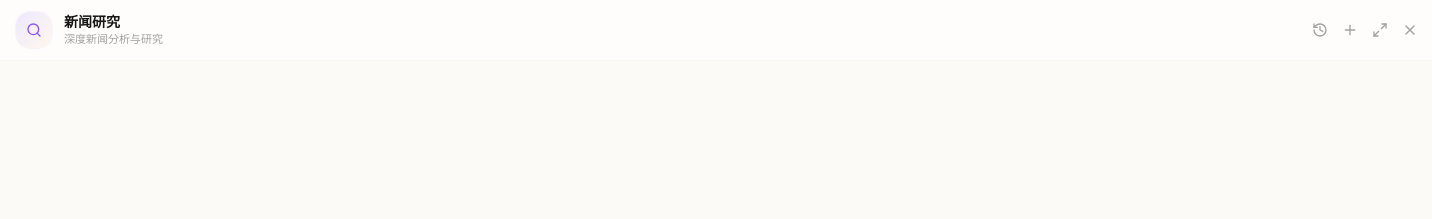
Test: ResearchHeader history menu keyboard behavior › focuses the current item and supports arrow, Home, End and Escape
This screenshot has width=1432, height=219.
Click the button named "历史会话": (1320, 30) 1306,16 -> 1334,44
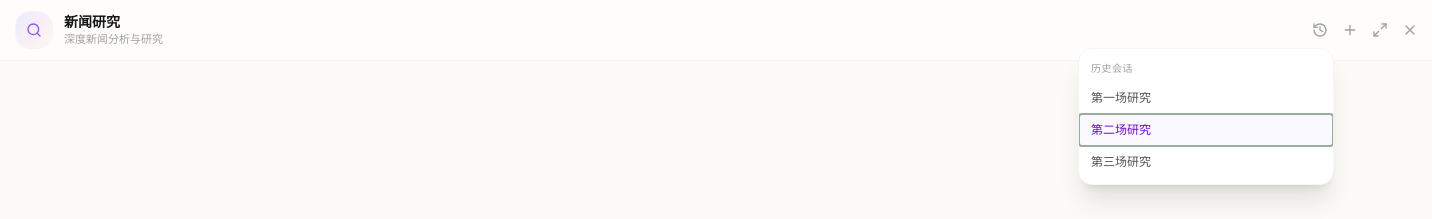
Press ArrowDown in the menu item "第二场研究", box 1079,114 -> 1333,146
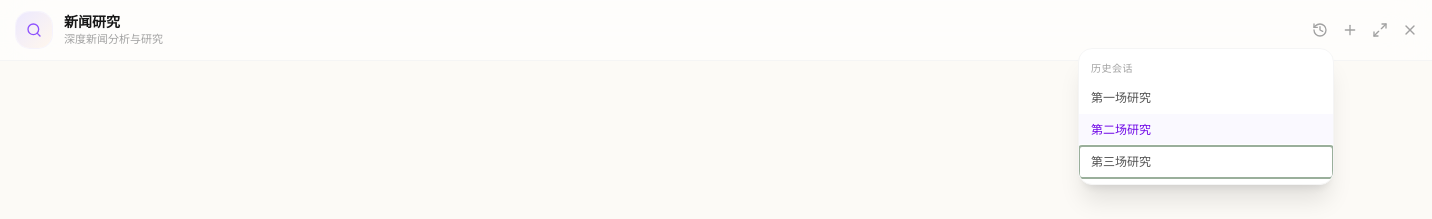
Press ArrowDown in the menu item "第三场研究", box 1079,146 -> 1333,178
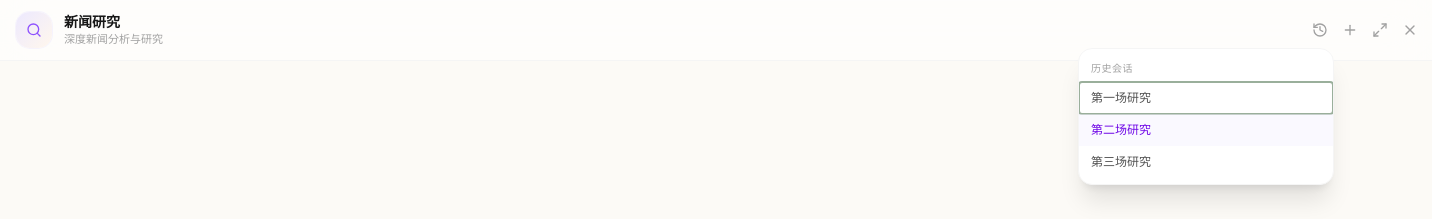
Press End in the menu item "第一场研究", box 1079,82 -> 1333,114
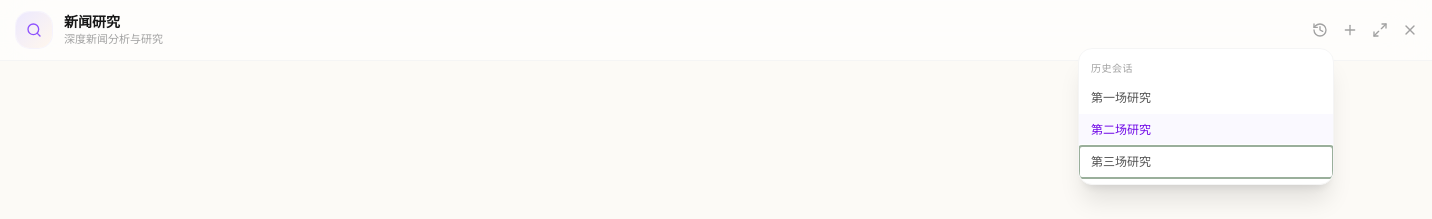
Press Home in the menu item "第三场研究", box 1079,146 -> 1333,178
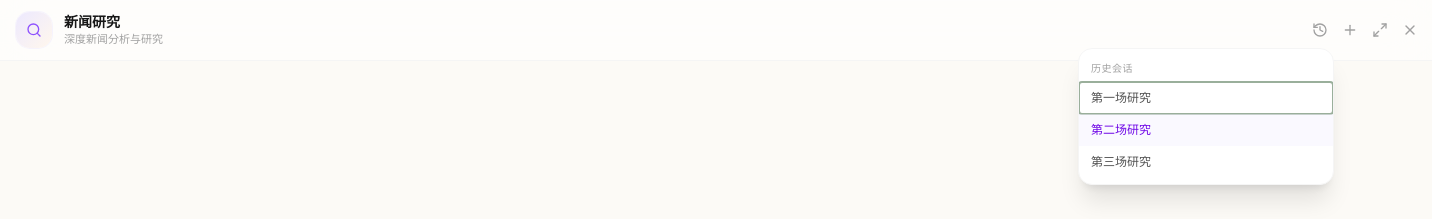
Press Escape in the menu item "第一场研究", box 1079,82 -> 1333,114
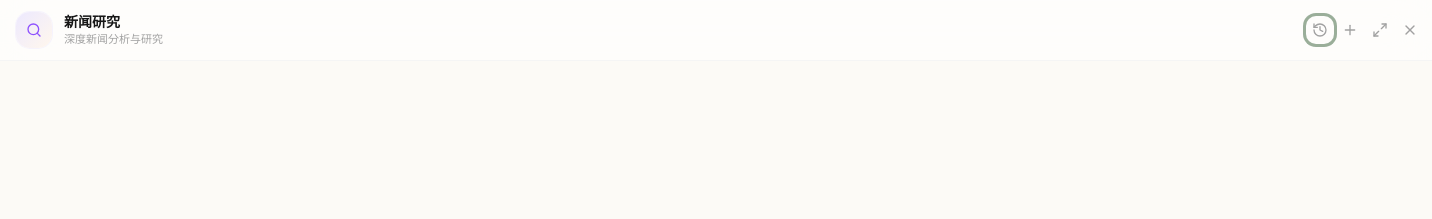
expect the menu is gone: met
